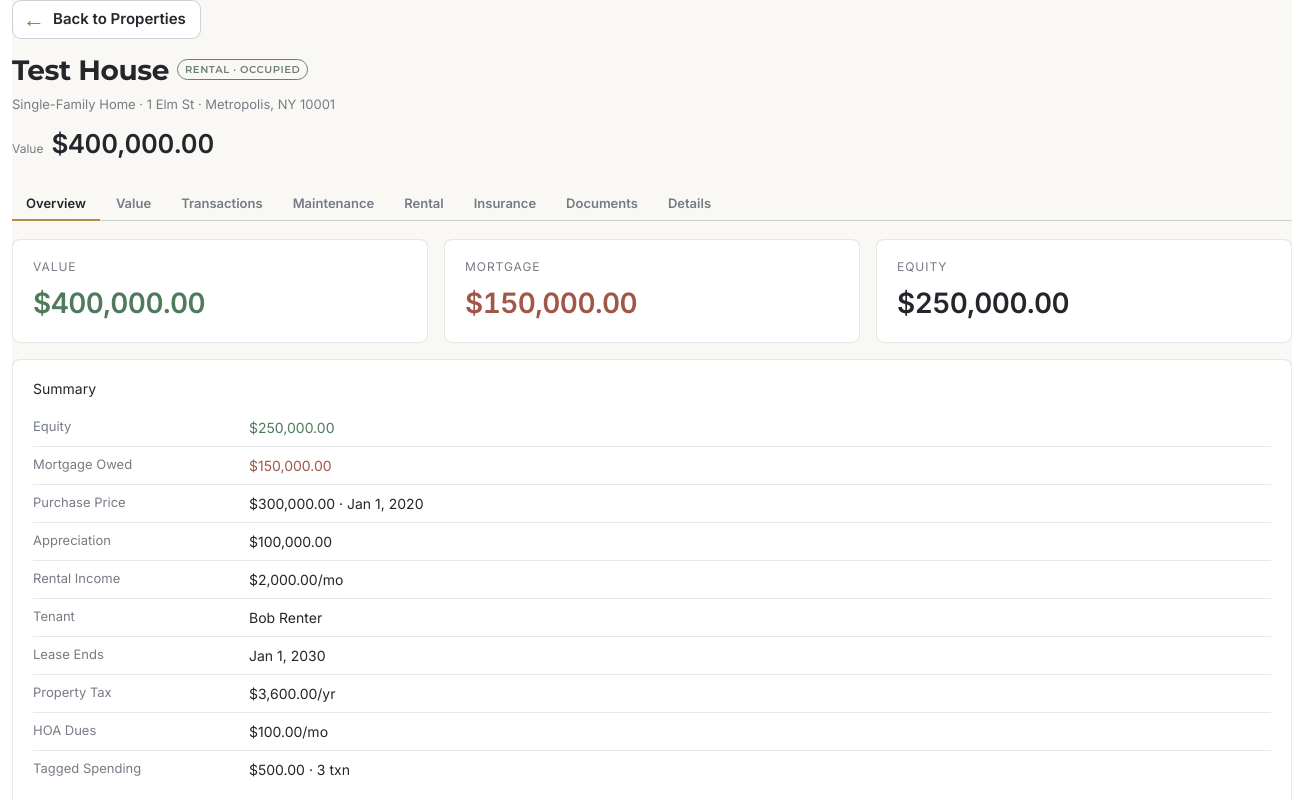
Test: PropertyDetail › surfaces an estimate error on the value tab
Expected: the heading "Test House Rental · Occupied" is shown, [12,48,335,90]
Click the button "Value".
click(134, 204)  # box [102,187,165,221]
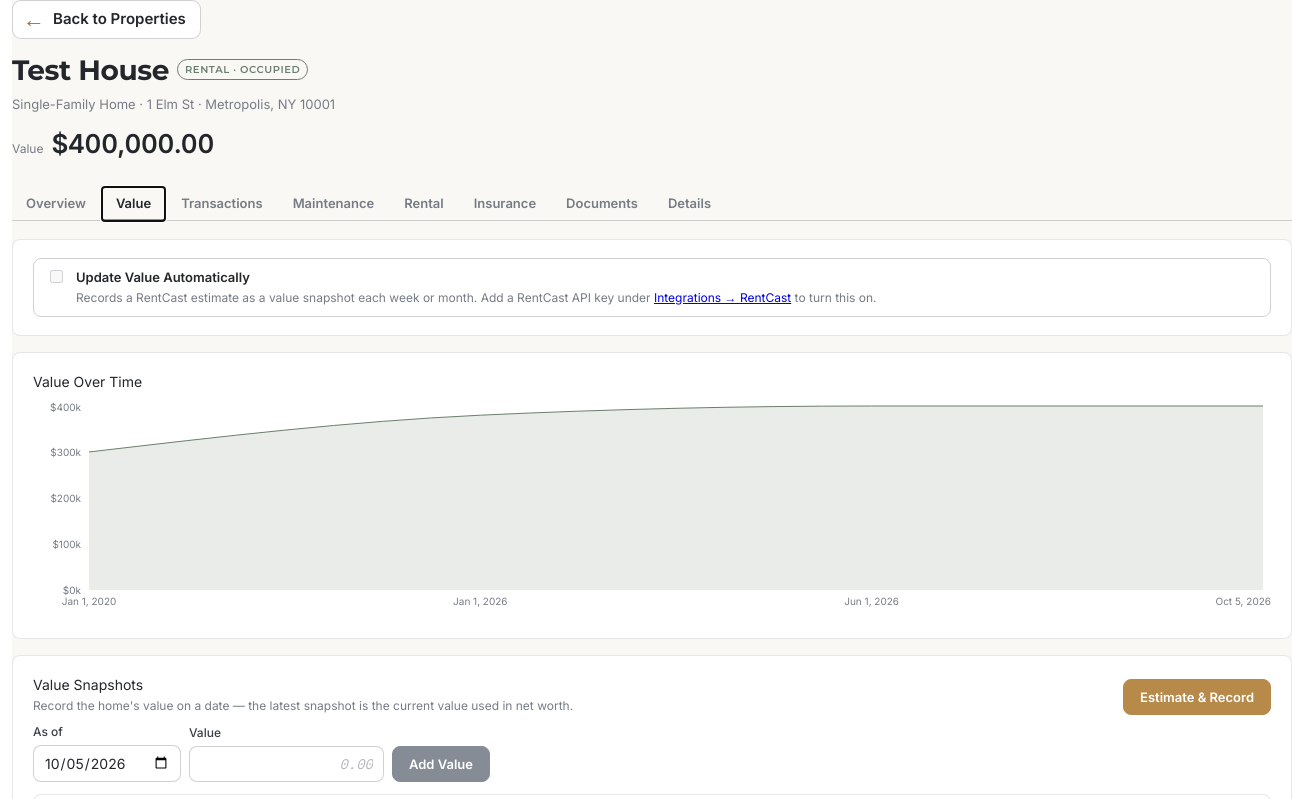
Click the button "Estimate & Record".
click(1197, 696)  # box [1123,678,1271,714]
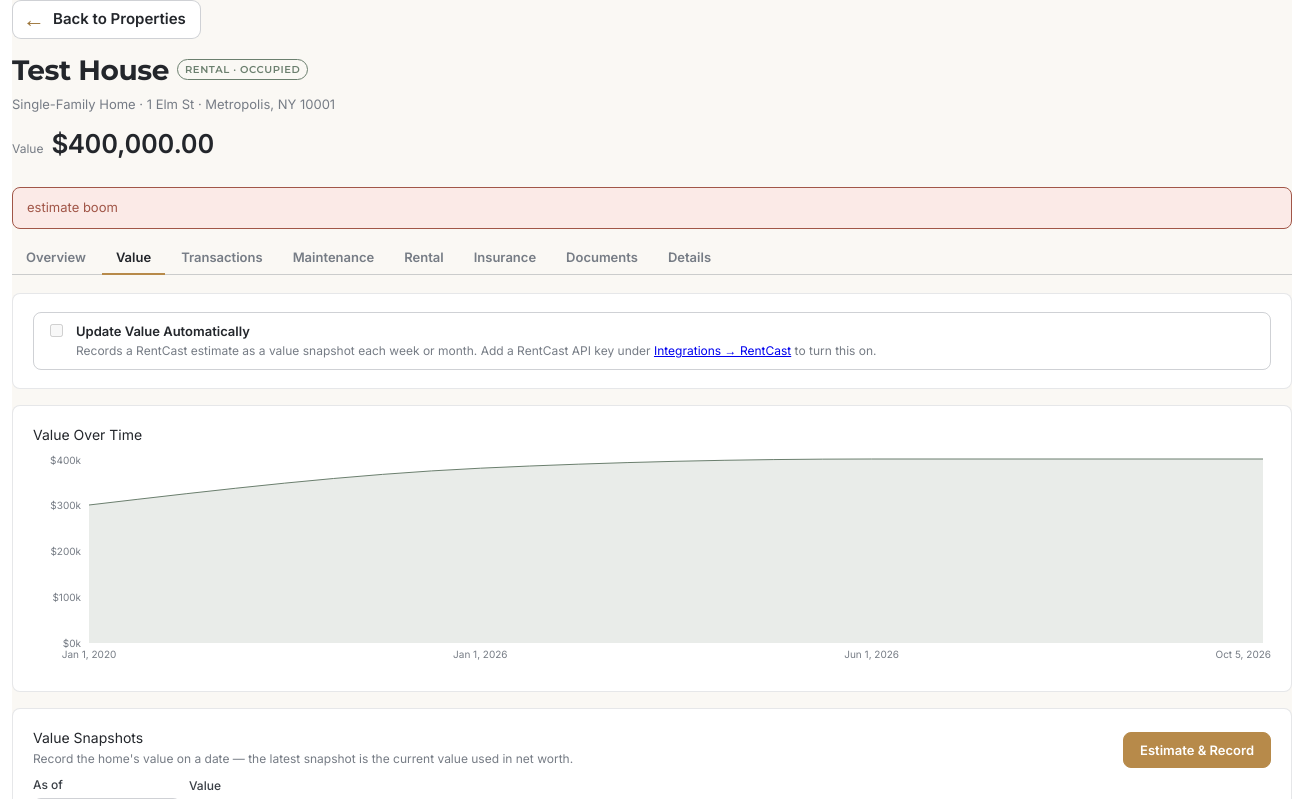
Result: the text "estimate boom" is shown at [12,187,1291,228]
